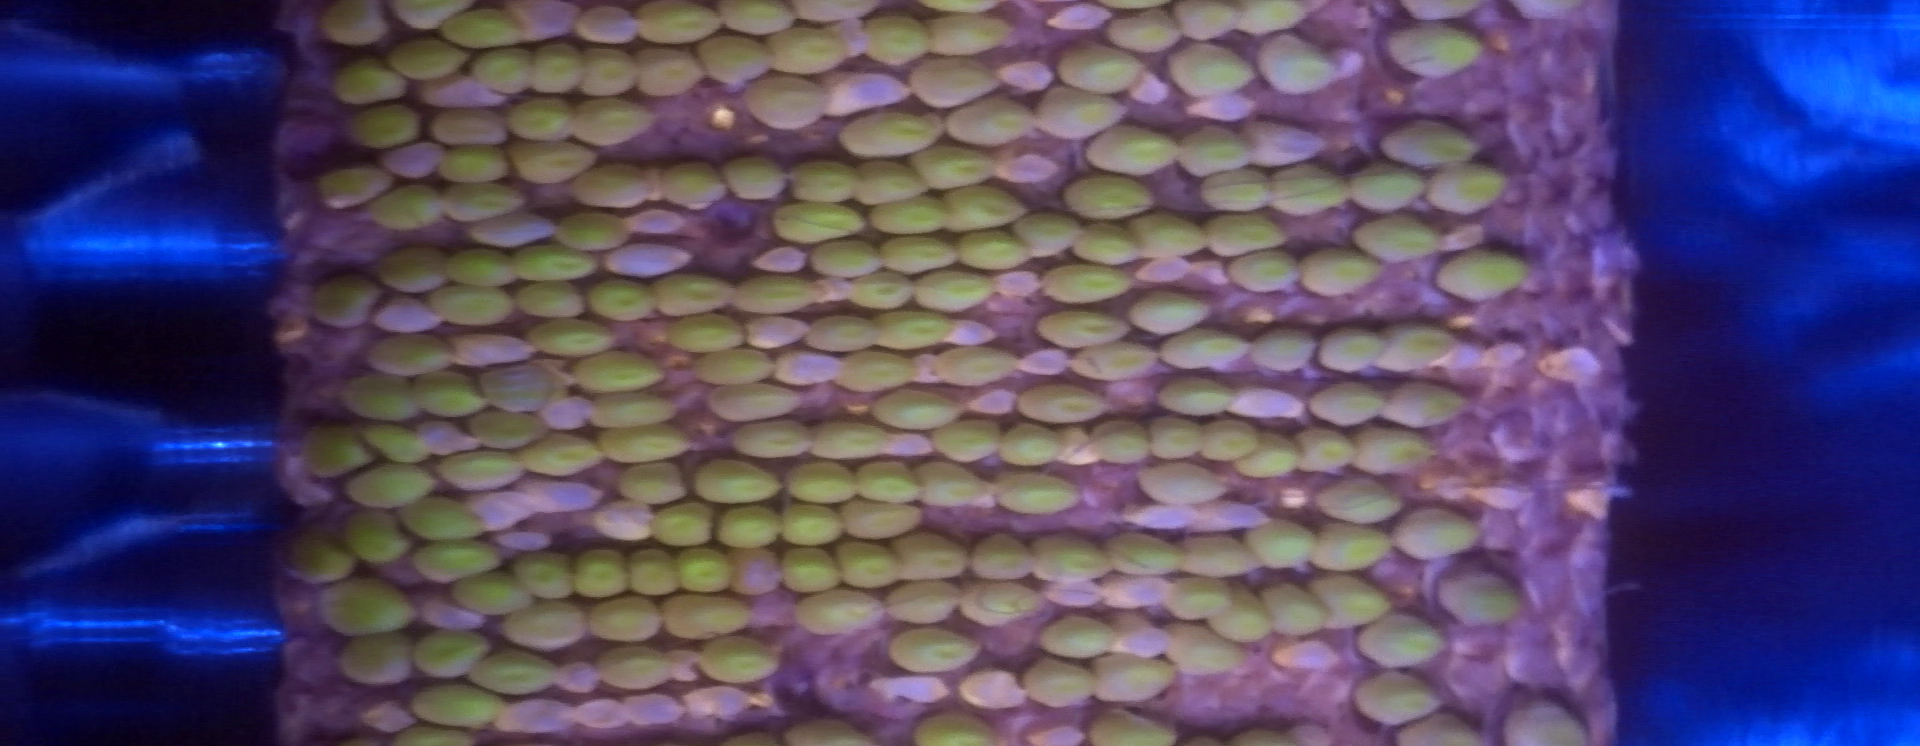fluorescent: (1382, 21, 1498, 80), (1393, 500, 1489, 563), (1356, 612, 1452, 673), (1428, 249, 1538, 301), (1155, 621, 1245, 682), (318, 579, 426, 630), (658, 590, 756, 646), (961, 578, 1057, 635), (1311, 572, 1397, 635), (913, 58, 1011, 111), (1254, 36, 1353, 88), (1153, 325, 1261, 372), (796, 593, 911, 637), (1202, 579, 1275, 649), (927, 339, 1027, 390), (495, 601, 595, 652), (887, 530, 976, 586), (876, 385, 973, 435), (360, 334, 468, 380), (1090, 125, 1184, 176), (910, 458, 1002, 511), (1498, 697, 1596, 746), (404, 535, 509, 581), (1100, 535, 1196, 584), (1379, 119, 1480, 165), (1247, 581, 1329, 638), (1434, 570, 1527, 620), (1304, 375, 1386, 431), (1153, 372, 1240, 425), (1089, 650, 1182, 699), (1375, 379, 1473, 425), (760, 23, 851, 73), (1171, 45, 1254, 99), (1425, 159, 1509, 213), (432, 281, 524, 328), (1156, 570, 1236, 625), (1035, 92, 1124, 141), (1349, 428, 1436, 478), (1371, 322, 1458, 372), (587, 593, 669, 646), (1296, 247, 1384, 296), (1071, 341, 1169, 385), (1022, 657, 1102, 710), (1037, 260, 1134, 304), (829, 537, 910, 589), (1247, 517, 1319, 576), (869, 307, 954, 358), (567, 358, 669, 399), (414, 624, 487, 681), (891, 627, 984, 673), (692, 345, 782, 392), (1256, 174, 1348, 219), (339, 630, 416, 684), (1201, 209, 1287, 257), (280, 535, 366, 583), (399, 499, 490, 543), (1123, 217, 1209, 263), (991, 472, 1086, 513), (444, 573, 542, 614), (1127, 288, 1213, 333), (913, 269, 1005, 312), (441, 183, 535, 224), (311, 168, 405, 209), (1311, 524, 1393, 572), (502, 146, 599, 186), (408, 691, 504, 731), (347, 374, 426, 423), (709, 386, 808, 425), (1353, 218, 1441, 262), (905, 145, 996, 187), (611, 463, 697, 508), (1032, 534, 1116, 581), (1069, 219, 1142, 272), (593, 423, 698, 459), (340, 507, 409, 563), (1040, 614, 1120, 661), (1019, 387, 1114, 428), (347, 465, 444, 505), (384, 38, 474, 81), (1311, 480, 1396, 526), (1176, 539, 1267, 581), (372, 185, 454, 232), (633, 2, 719, 47), (654, 269, 740, 314), (782, 158, 866, 203), (969, 533, 1043, 583), (1356, 677, 1438, 723), (632, 44, 704, 96), (831, 497, 923, 538), (838, 348, 917, 394), (1248, 327, 1321, 377), (328, 60, 414, 103), (1032, 309, 1129, 347), (950, 104, 1038, 146), (588, 274, 662, 323), (887, 582, 961, 631), (576, 47, 640, 103), (648, 500, 719, 551), (530, 315, 629, 352), (359, 421, 431, 472), (440, 450, 527, 491), (806, 423, 893, 464), (867, 194, 956, 234), (310, 1, 389, 47), (846, 118, 938, 157), (1064, 180, 1156, 219), (852, 457, 926, 506), (860, 159, 927, 212), (1059, 55, 1146, 96), (729, 421, 816, 462), (309, 276, 382, 323), (377, 244, 451, 292), (1349, 167, 1429, 211), (580, 394, 682, 429), (1233, 430, 1299, 483), (749, 82, 824, 129), (440, 5, 523, 47), (572, 170, 658, 211), (947, 183, 1020, 229), (302, 428, 372, 477), (571, 551, 640, 600), (669, 315, 756, 354), (700, 639, 778, 684), (1011, 209, 1078, 261), (697, 37, 771, 82), (411, 367, 486, 413), (1315, 327, 1382, 377), (691, 465, 789, 500), (775, 205, 869, 240), (465, 655, 560, 691), (435, 145, 523, 183), (921, 16, 1011, 53), (949, 232, 1026, 274), (659, 159, 731, 205), (602, 649, 675, 695), (711, 502, 784, 548), (507, 559, 579, 604), (738, 274, 822, 314), (781, 462, 864, 501), (778, 546, 842, 597), (1177, 129, 1250, 173), (709, 1, 802, 36), (435, 110, 516, 149), (1196, 175, 1275, 216), (467, 413, 547, 452), (878, 236, 954, 278), (916, 713, 1011, 746), (673, 546, 740, 594), (775, 503, 849, 546), (867, 23, 936, 69), (576, 107, 651, 147), (473, 53, 544, 96), (522, 437, 607, 473), (998, 419, 1067, 463), (1294, 430, 1357, 478), (813, 239, 887, 279), (1144, 464, 1227, 500), (804, 315, 879, 354), (444, 249, 524, 285), (1169, 1, 1242, 42), (491, 370, 557, 414), (1090, 710, 1172, 746), (528, 43, 585, 93), (518, 281, 594, 318), (1091, 420, 1150, 469), (1234, 249, 1299, 293), (1104, 13, 1179, 51), (511, 247, 593, 282), (627, 548, 683, 597), (563, 211, 629, 252), (1240, 1, 1320, 36), (1198, 420, 1262, 462), (504, 104, 577, 141), (727, 544, 778, 597), (937, 419, 1002, 459), (1145, 416, 1202, 462), (846, 272, 909, 314), (576, 9, 640, 45), (724, 159, 789, 196), (351, 111, 418, 146), (785, 723, 876, 746), (1400, 717, 1471, 746), (393, 726, 489, 746), (1223, 730, 1331, 746), (1401, 1, 1493, 20), (404, 1, 476, 24), (918, 1, 1000, 13)
